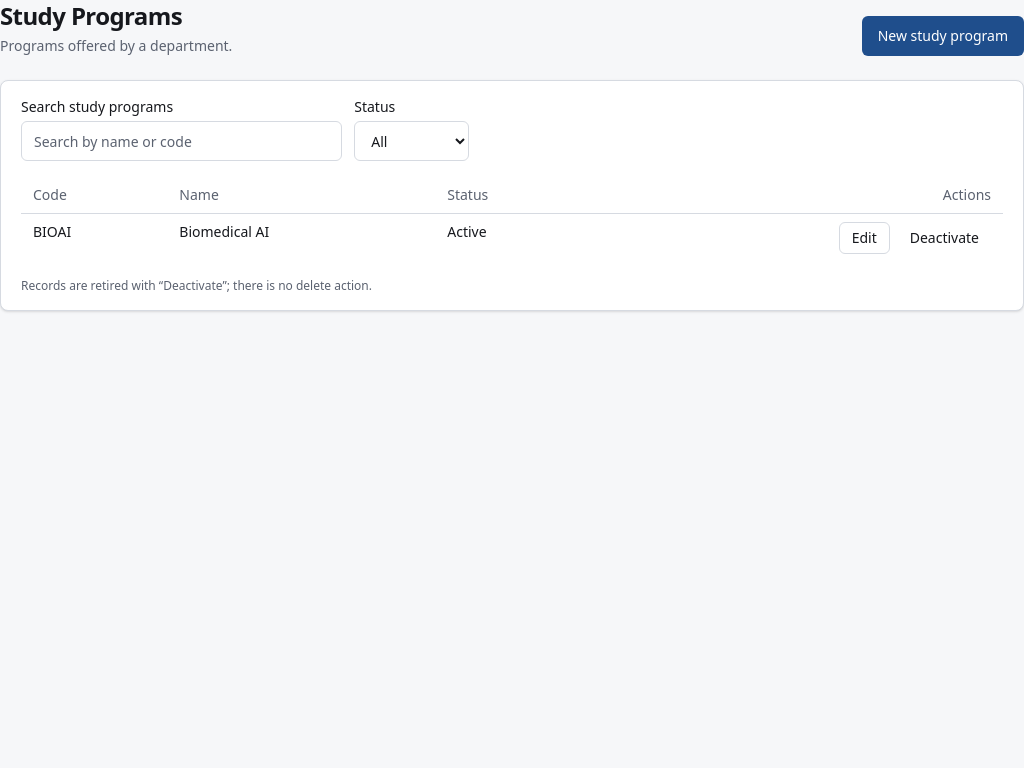
Test case: academic resource page — create and edit › creates a record, shows feedback and refreshes the list
Click the button "New study program": (943, 36) 862,16 -> 1023,56
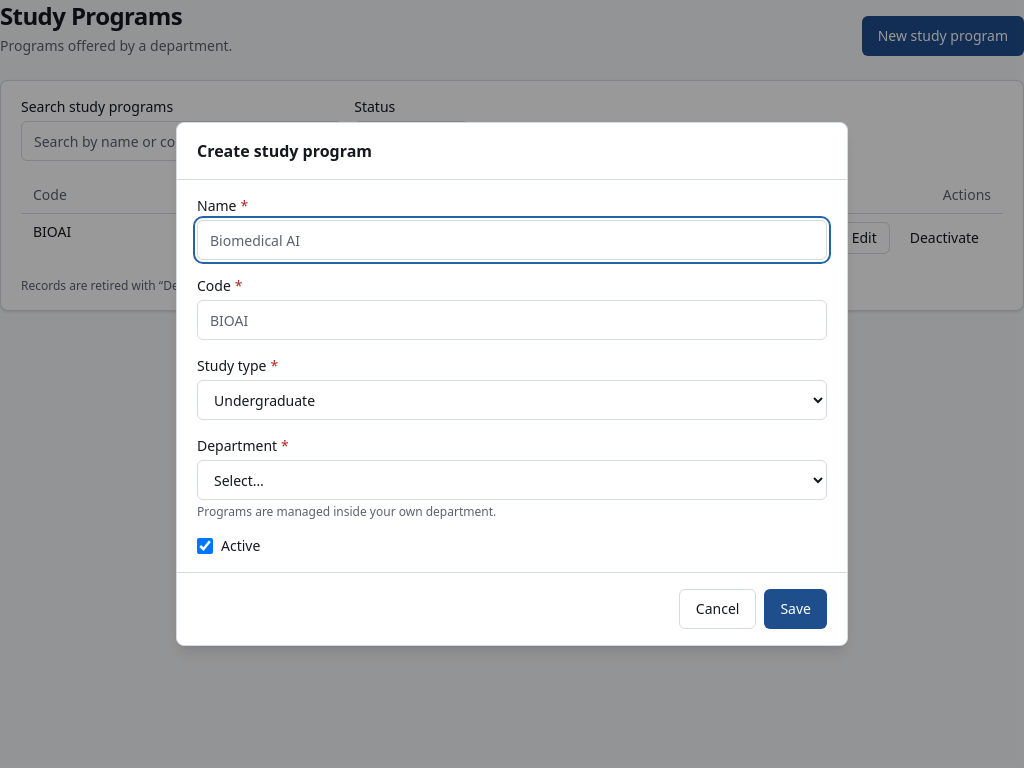
In the field labelled "Name*": (512, 240) 197,220 -> 827,260, type "Applied AI"
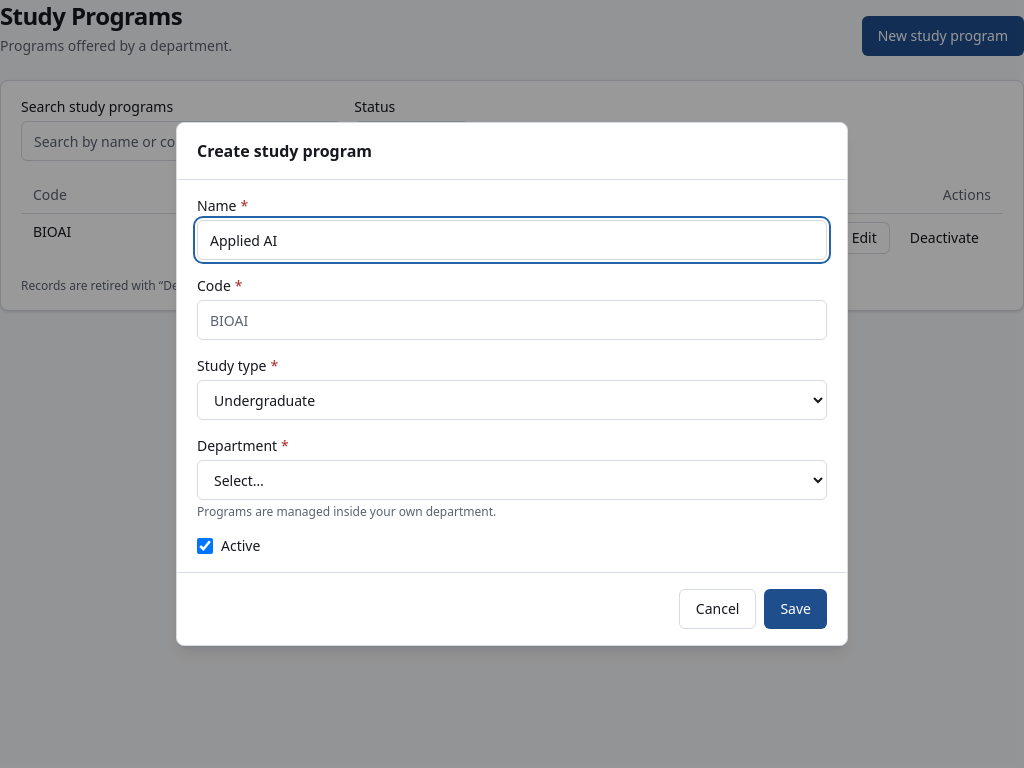
In the field labelled "Code*": (512, 320) 197,300 -> 827,340, type "AI401"
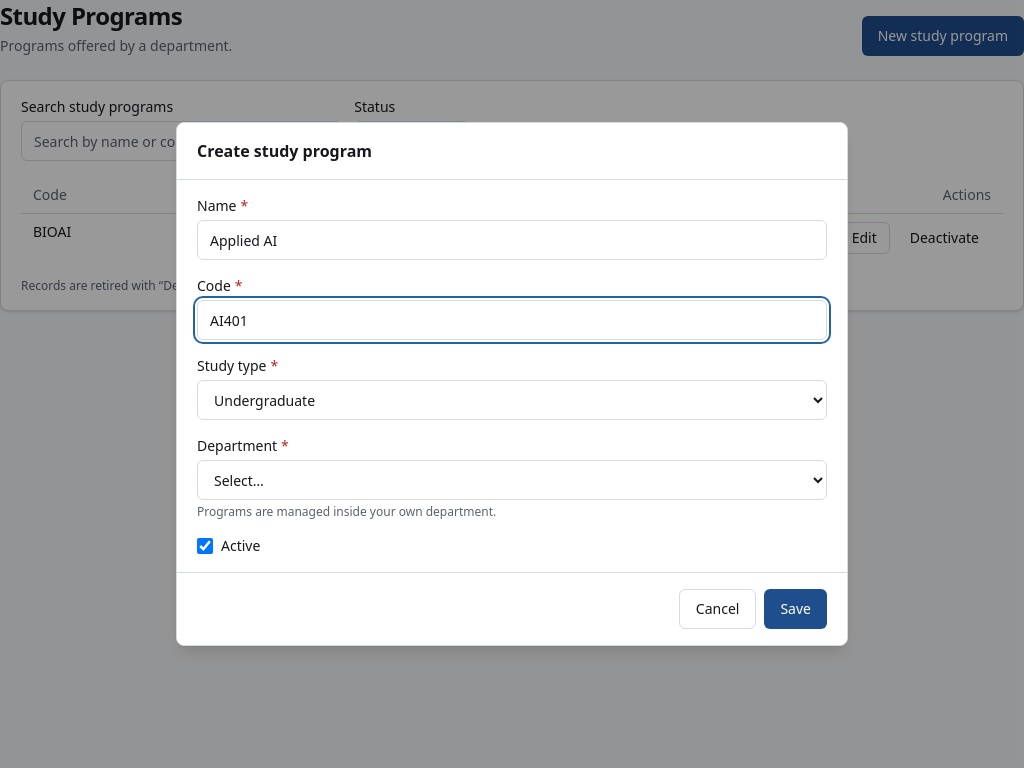
Select "BIOAI — Biomedical AI" in the dropdown labelled "Department*": (512, 480) 197,460 -> 827,500
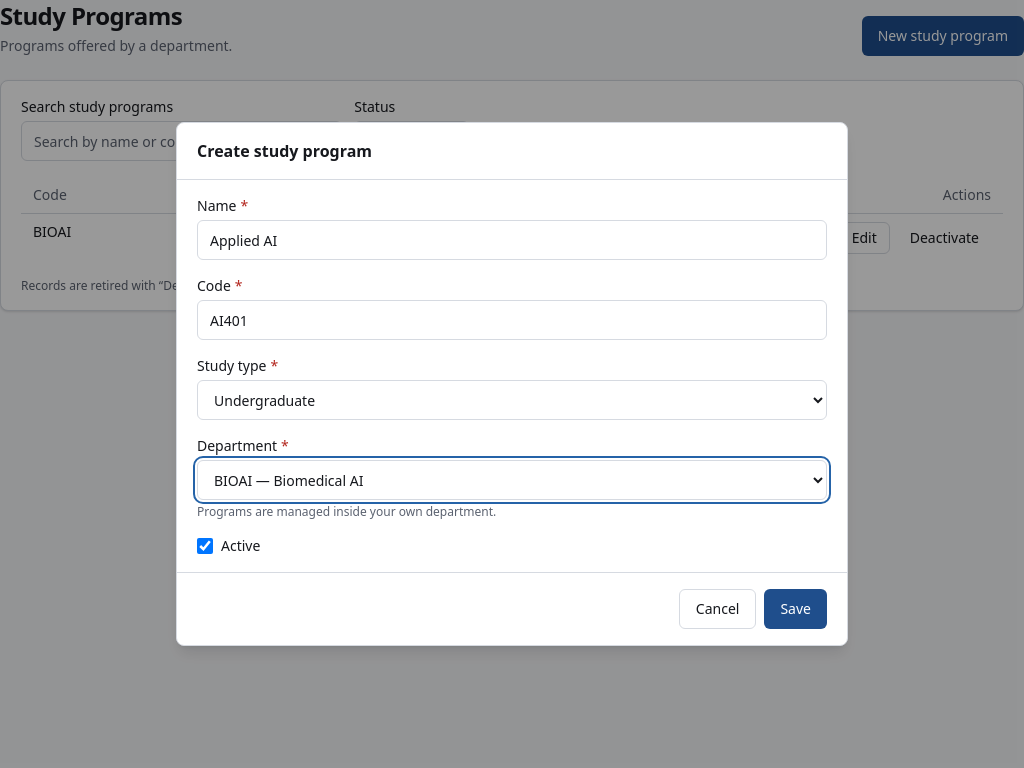
Click the button "Save": (796, 609) 764,589 -> 827,629
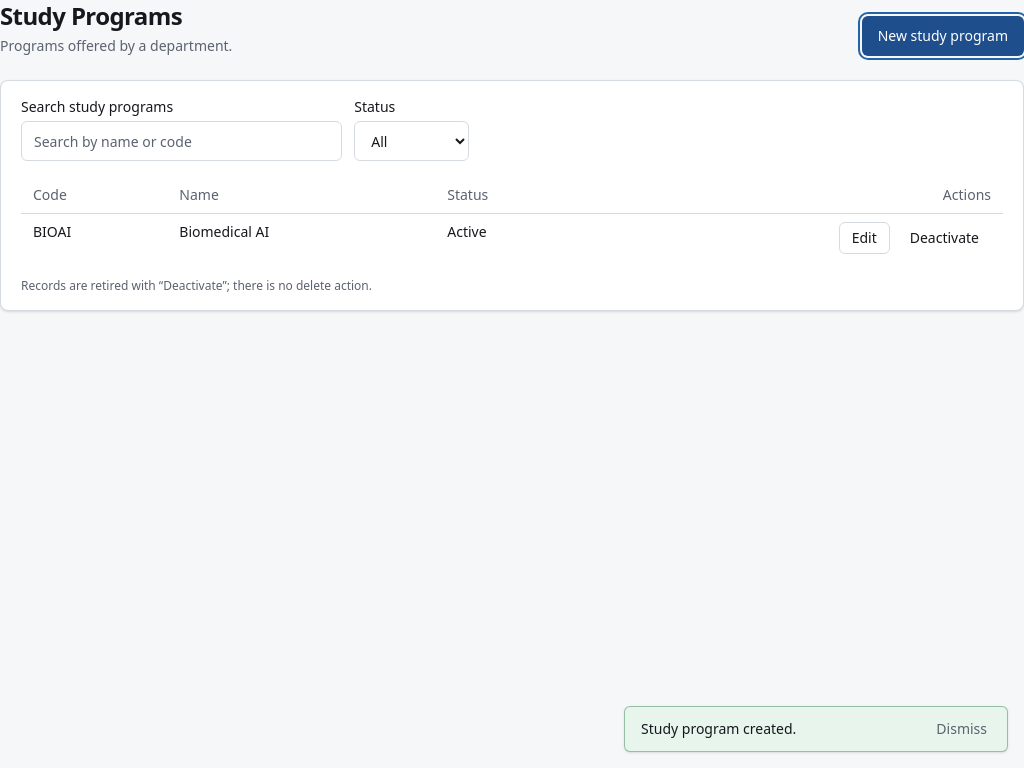
Result: the text "Study program created." is shown at 641,719 -> 796,739
Result: the dialog is gone
